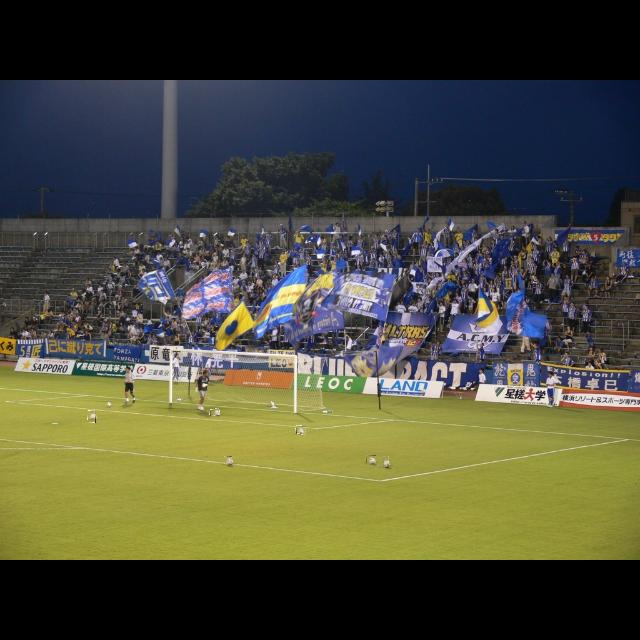Football: (88, 411, 96, 423), (210, 408, 220, 416), (296, 426, 306, 434), (366, 455, 376, 463), (383, 456, 389, 468), (224, 456, 232, 464)
